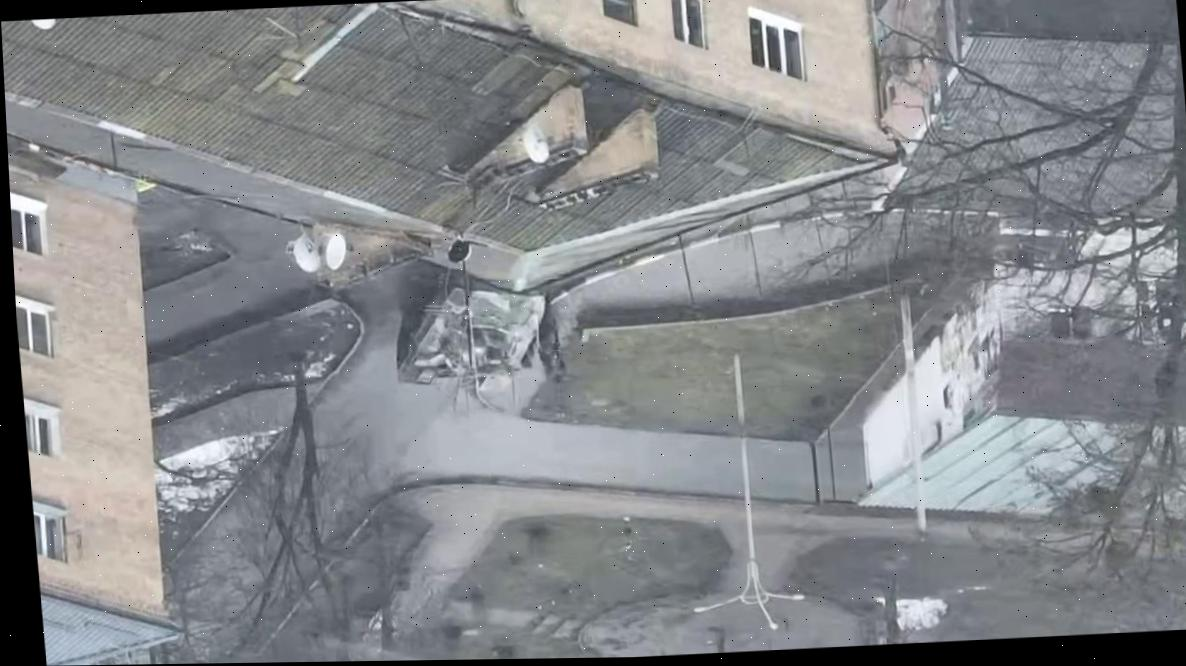person: (530, 287, 560, 354), (537, 339, 561, 378), (549, 351, 567, 385)
tank: (383, 261, 557, 400)
